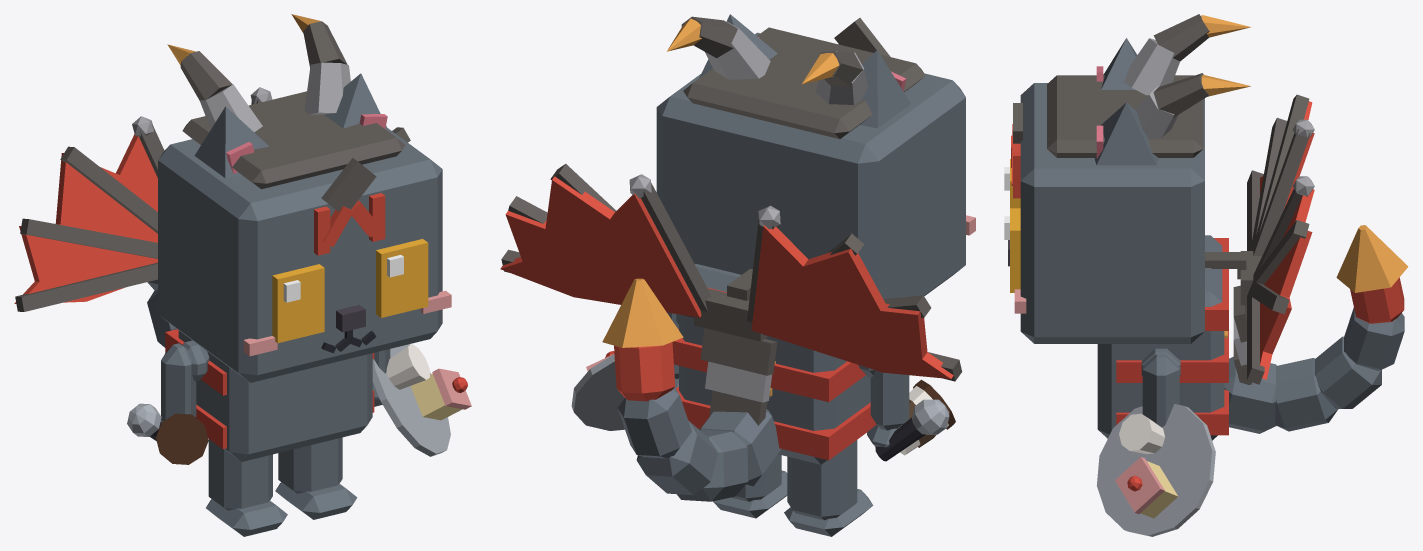
The model's file is CatCafe_Cat_DragonKnight_Work.glb.
3 views of the same model, side by side, from view 1: azimuth 30°, elevation 25°; view 2: azimuth 150°, elevation 25°; view 3: azimuth 270°, elevation 25° (orthographic). The views are drawn at different scales.
Parts seen in each view (by area): view 1: CatCafe_Cat_DragonKnight_Work_Head, CatCafe_Cat_DragonKnight_Work_Prop2, CatCafe_Cat_DragonKnight_Work_Prop, CatCafe_Cat_DragonKnight_Work_Body, CatCafe_Cat_DragonKnight_Work_Held_Waiter, CatCafe_Cat_DragonKnight_Work_LegB2, CatCafe_Cat_DragonKnight_Work_LegB1, CatCafe_Cat_DragonKnight_Work_Eye1, CatCafe_Cat_DragonKnight_Work_Eye2, CatCafe_Cat_DragonKnight_Work_EarR, CatCafe_Cat_DragonKnight_Work_LegF2, CatCafe_Cat_DragonKnight_Work_Held_Barista (+3 smaller); view 2: CatCafe_Cat_DragonKnight_Work_Head, CatCafe_Cat_DragonKnight_Work_Prop2, CatCafe_Cat_DragonKnight_Work_Prop, CatCafe_Cat_DragonKnight_Work_Tail, CatCafe_Cat_DragonKnight_Work_Body, CatCafe_Cat_DragonKnight_Work_LegB2, CatCafe_Cat_DragonKnight_Work_Tail_Ember_Glow, CatCafe_Cat_DragonKnight_Work_Held_Waiter, CatCafe_Cat_DragonKnight_Work_LegF2, CatCafe_Cat_DragonKnight_Work_EarR, CatCafe_Cat_DragonKnight_Work_LegB1, CatCafe_Cat_DragonKnight_Work_Held_Entertainer (+3 smaller); view 3: CatCafe_Cat_DragonKnight_Work_Head, CatCafe_Cat_DragonKnight_Work_Prop2, CatCafe_Cat_DragonKnight_Work_Prop, CatCafe_Cat_DragonKnight_Work_Tail, CatCafe_Cat_DragonKnight_Work_Held_Waiter, CatCafe_Cat_DragonKnight_Work_Body, CatCafe_Cat_DragonKnight_Work_Tail_Ember_Glow, CatCafe_Cat_DragonKnight_Work_EarL, CatCafe_Cat_DragonKnight_Work_LegF1, CatCafe_Cat_DragonKnight_Work_EarR, CatCafe_Cat_DragonKnight_Work_Horn_Glow, CatCafe_Cat_DragonKnight_Work_Eye1.
Part boxes in pixels (<box>): CatCafe_Cat_DragonKnight_Work_Head: <box>158,128,451,382</box>; CatCafe_Cat_DragonKnight_Work_Prop2: <box>14,87,410,311</box>; CatCafe_Cat_DragonKnight_Work_Prop: <box>180,21,405,211</box>; CatCafe_Cat_DragonKnight_Work_Body: <box>165,329,374,461</box>; CatCafe_Cat_DragonKnight_Work_Held_Waiter: <box>372,344,471,456</box>; CatCafe_Cat_DragonKnight_Work_LegB2: <box>206,439,287,536</box>; CatCafe_Cat_DragonKnight_Work_LegB1: <box>275,437,357,519</box>; CatCafe_Cat_DragonKnight_Work_Eye1: <box>376,239,428,317</box>; CatCafe_Cat_DragonKnight_Work_Eye2: <box>272,264,324,343</box>; CatCafe_Cat_DragonKnight_Work_EarR: <box>194,106,268,178</box>; CatCafe_Cat_DragonKnight_Work_LegF2: <box>161,343,196,421</box>; CatCafe_Cat_DragonKnight_Work_Held_Barista: <box>156,413,208,464</box>; CatCafe_Cat_DragonKnight_Work_Head: <box>656,32,975,298</box>; CatCafe_Cat_DragonKnight_Work_Prop2: <box>500,164,962,425</box>; CatCafe_Cat_DragonKnight_Work_Prop: <box>681,16,925,138</box>; CatCafe_Cat_DragonKnight_Work_Tail: <box>614,342,781,501</box>; CatCafe_Cat_DragonKnight_Work_Body: <box>672,263,876,464</box>; CatCafe_Cat_DragonKnight_Work_LegB2: <box>784,440,873,536</box>; CatCafe_Cat_DragonKnight_Work_Tail_Ember_Glow: <box>602,278,683,347</box>; CatCafe_Cat_DragonKnight_Work_Held_Waiter: <box>571,351,624,430</box>; CatCafe_Cat_DragonKnight_Work_LegF2: <box>867,370,909,447</box>; CatCafe_Cat_DragonKnight_Work_EarR: <box>860,50,910,128</box>; CatCafe_Cat_DragonKnight_Work_LegB1: <box>713,454,787,518</box>; CatCafe_Cat_DragonKnight_Work_Held_Entertainer: <box>875,399,949,461</box>; CatCafe_Cat_DragonKnight_Work_Head: <box>1008,83,1204,343</box>; CatCafe_Cat_DragonKnight_Work_Prop2: <box>1205,94,1314,384</box>; CatCafe_Cat_DragonKnight_Work_Prop: <box>1013,14,1209,157</box>; CatCafe_Cat_DragonKnight_Work_Tail: <box>1224,277,1404,433</box>; CatCafe_Cat_DragonKnight_Work_Held_Waiter: <box>1096,404,1215,536</box>; CatCafe_Cat_DragonKnight_Work_Body: <box>1097,235,1228,440</box>; CatCafe_Cat_DragonKnight_Work_Tail_Ember_Glow: <box>1336,225,1408,292</box>; CatCafe_Cat_DragonKnight_Work_EarL: <box>1094,102,1158,165</box>; CatCafe_Cat_DragonKnight_Work_LegF1: <box>1142,354,1179,427</box>; CatCafe_Cat_DragonKnight_Work_EarR: <box>1096,38,1137,89</box>; CatCafe_Cat_DragonKnight_Work_Horn_Glow: <box>1201,15,1251,96</box>; CatCafe_Cat_DragonKnight_Work_Eye1: <box>1004,208,1020,292</box>.
Size of the model in its own units: 2.51 by 2.65 by 2.17.
Materials: 1 (1 with a texture image).
